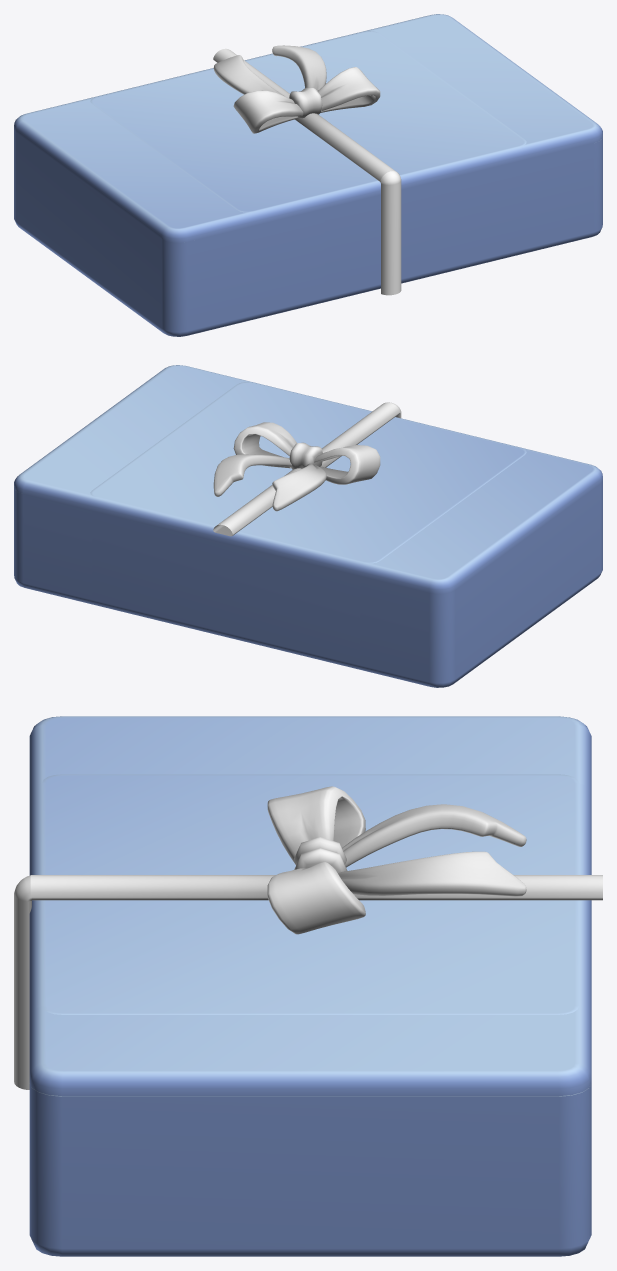
Rendered from GiftBox.fbx.
3 renders of one model, top to bottom at view 1: azimuth 30°, elevation 25°; view 2: azimuth 150°, elevation 25°; view 3: azimuth 270°, elevation 25°, orthographic. The views are drawn at different scales.
Visible parts, largest first — view 1: Gift_Box3, Gift_Box_Lid2, Gift_Box_Lid3, Tie, Gift_Box1, Wire2, Wire, Gift_Box2; view 2: Gift_Box_Lid2, Gift_Box3, Gift_Box_Lid3, Gift_Box2, Tie, Wire; view 3: Gift_Box_Lid2, Gift_Box3, Gift_Box_Lid3, Tie, Wire, Wire2.
Part boxes in pixels (x1,y1,x2,y2): Gift_Box3: [14, 130, 602, 336]; Gift_Box_Lid2: [90, 31, 526, 225]; Gift_Box_Lid3: [14, 14, 602, 243]; Tie: [213, 45, 380, 133]; Gift_Box1: [324, 186, 456, 297]; Wire2: [380, 171, 401, 295]; Wire: [213, 48, 398, 181]; Gift_Box2: [300, 249, 524, 304]; Gift_Box_Lid2: [90, 382, 526, 571]; Gift_Box3: [14, 481, 602, 687]; Gift_Box_Lid3: [14, 365, 602, 594]; Gift_Box2: [92, 511, 361, 669]; Tie: [213, 422, 380, 511]; Wire: [213, 402, 399, 536]; Gift_Box_Lid2: [29, 774, 591, 1016]; Gift_Box3: [29, 1083, 591, 1256]; Gift_Box_Lid3: [29, 716, 591, 1096]; Tie: [267, 786, 526, 934]; Wire: [30, 875, 602, 900]; Wire2: [14, 875, 31, 1089].
Bounding box in the file's own units: 1004 × 323 × 682.
